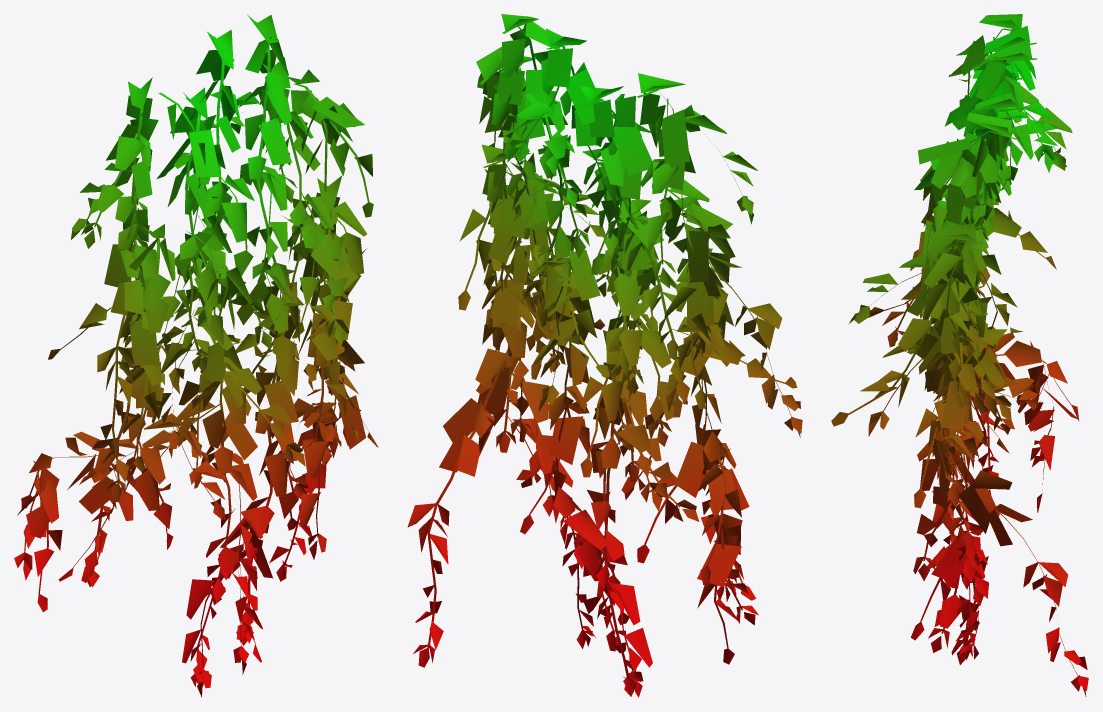
File: Var5_LOD4.fbx
3 renders of one model, left to right at view 1: azimuth 30°, elevation 25°; view 2: azimuth 150°, elevation 25°; view 3: azimuth 270°, elevation 25°, orthographic. The views are drawn at different scales.
Parts seen in each view (by area): view 1: _cyuh_Var5_LOD4; view 2: _cyuh_Var5_LOD4; view 3: _cyuh_Var5_LOD4.
Boxes of the visible parts, x1,y1,x2,y2 form: _cyuh_Var5_LOD4: (14, 14, 378, 697); _cyuh_Var5_LOD4: (407, 14, 802, 697); _cyuh_Var5_LOD4: (831, 14, 1088, 696).
Bounding box in the file's own units: 65.75 × 127 × 44.54.
